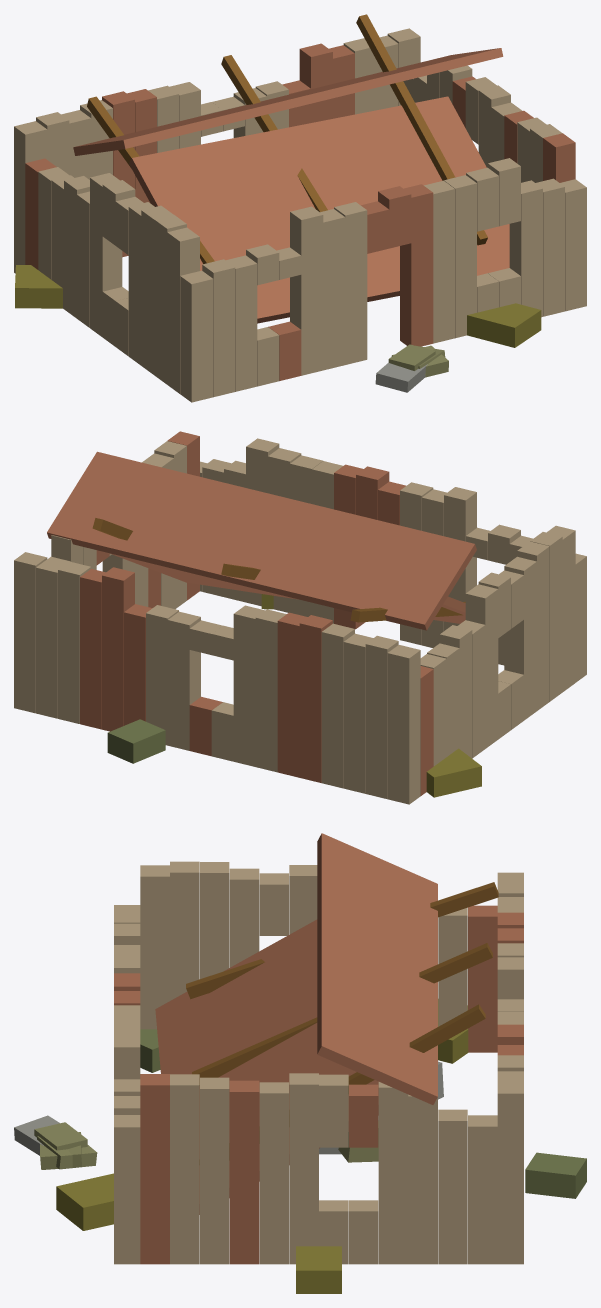
The model's file is SM_CasaRuina_v2_TejadoHundido_LOD0.fbx.
3 renders of one model, top to bottom at view 1: azimuth 30°, elevation 25°; view 2: azimuth 150°, elevation 25°; view 3: azimuth 270°, elevation 25°, orthographic. The views are drawn at different scales.
Parts seen in each view (by area): view 1: SM_casa_ruina_v2_LOD0; view 2: SM_casa_ruina_v2_LOD0; view 3: SM_casa_ruina_v2_LOD0.
Boxes of the visible parts, box(x1,y1,x2,y2) form: SM_casa_ruina_v2_LOD0: box(14, 14, 586, 402); SM_casa_ruina_v2_LOD0: box(14, 431, 586, 804); SM_casa_ruina_v2_LOD0: box(14, 833, 586, 1293).
Size of the model in its own units: 11 by 4.23 by 9.78.
